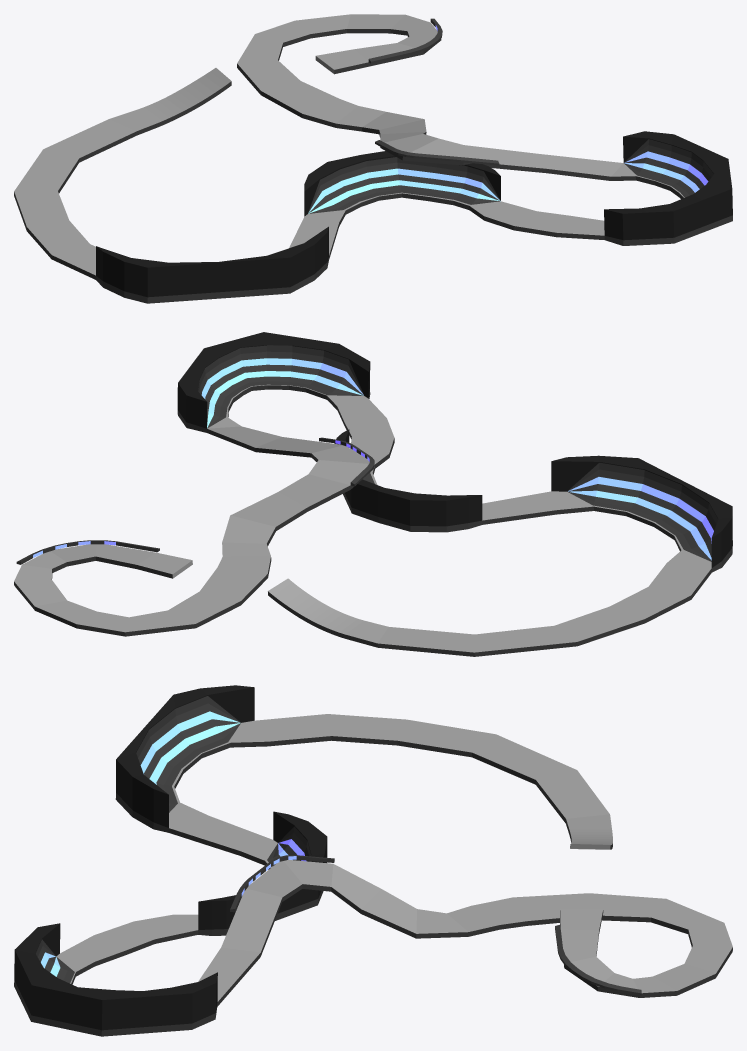
The model's file is RaceTrackTest6Alt.fbx.
3 views of the same model, one above another, from view 1: azimuth 30°, elevation 25°; view 2: azimuth 150°, elevation 25°; view 3: azimuth 270°, elevation 25° (orthographic). The views are drawn at different scales.
Visible parts, largest first — view 1: MainTrack, GuardRail2, GuardRail1; view 2: MainTrack, GuardRail1; view 3: MainTrack, GuardRail1, GuardRail2.
Boxes of the visible parts, x1=… form: MainTrack: x1=14, y1=14, x2=732, y2=303; GuardRail2: x1=375, y1=140, x2=499, y2=165; GuardRail1: x1=368, y1=18, x2=442, y2=63; MainTrack: x1=14, y1=332, x2=732, y2=656; GuardRail1: x1=16, y1=540, x2=159, y2=564; MainTrack: x1=14, y1=685, x2=732, y2=1036; GuardRail1: x1=555, y1=925, x2=641, y2=995; GuardRail2: x1=230, y1=855, x2=334, y2=912.
Bounding box in the file's own units: 282 × 19.33 × 269.
